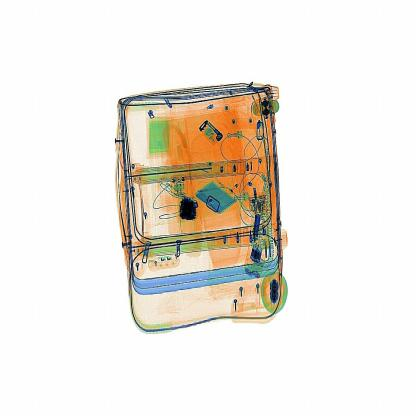scissors: (171, 188, 208, 226)
